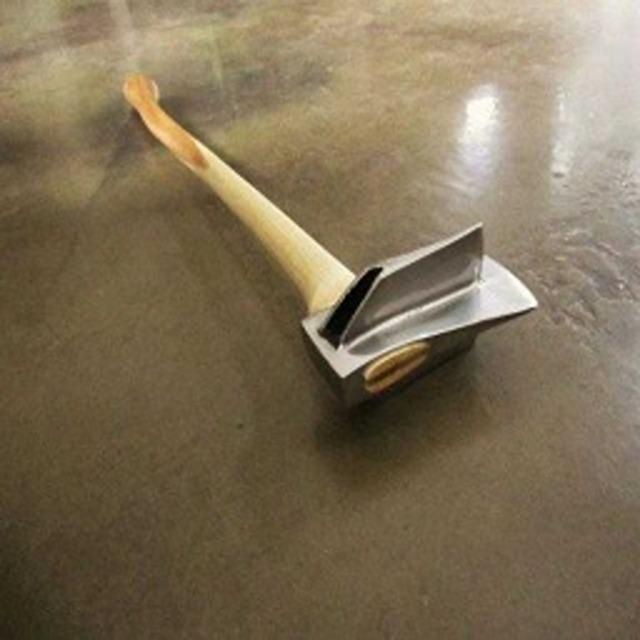ax: (110, 67, 551, 422)
